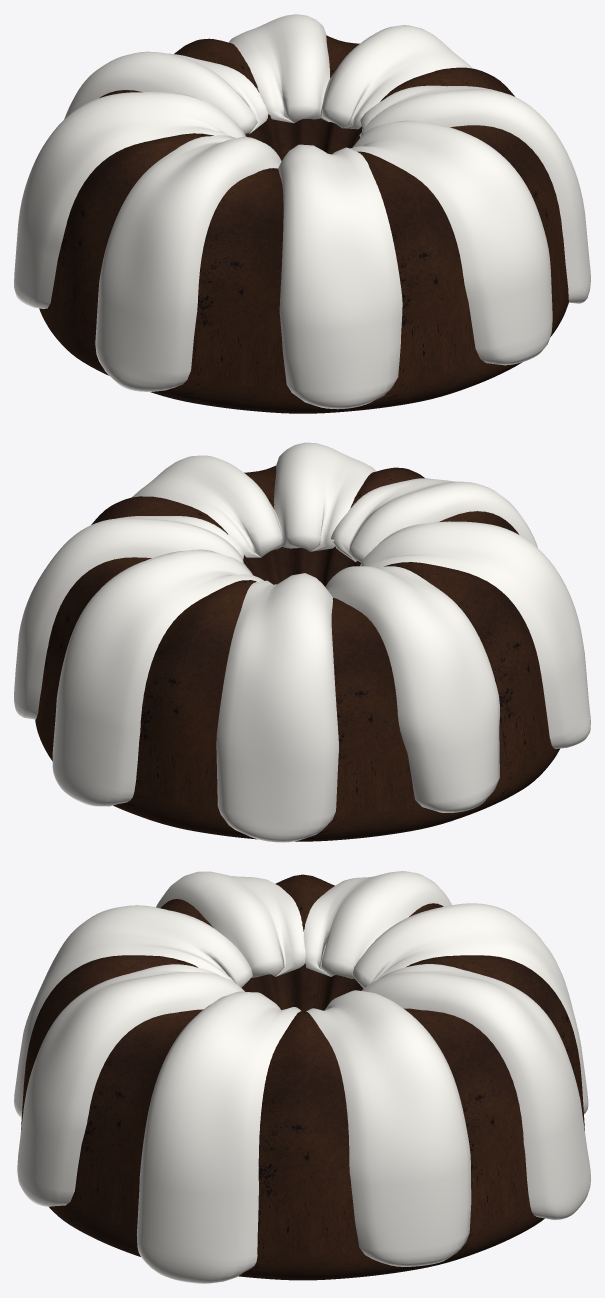
Rendered from bundt_chocolate_10.glb.
3 views of the same model, one above another, from view 1: azimuth 30°, elevation 25°; view 2: azimuth 150°, elevation 25°; view 3: azimuth 270°, elevation 25° (orthographic). The views are drawn at different scales.
Visible parts, largest first — view 1: cake.001, frosting.005, frosting.004, frosting.006, frosting.003, frosting.007, frosting.001, frosting, frosting.002; view 2: cake.001, frosting.002, frosting.003, frosting.001, frosting.004, frosting, frosting.005, frosting.006, frosting.007; view 3: cake.001, frosting.007, frosting, frosting.001, frosting.006, frosting.002, frosting.005, frosting.004, frosting.003.
Part boxes in pixels (<box>): cake.001: <box>39,35,568,413</box>; frosting.005: <box>278,144,402,409</box>; frosting.004: <box>95,135,281,391</box>; frosting.006: <box>350,120,552,365</box>; frosting.003: <box>14,91,246,308</box>; frosting.007: <box>359,85,590,303</box>; frosting.001: <box>228,14,330,123</box>; frosting: <box>320,25,472,129</box>; frosting.002: <box>64,51,268,134</box>; cake.001: <box>35,465,559,841</box>; frosting.002: <box>216,573,338,842</box>; frosting.003: <box>325,566,499,812</box>; frosting.001: <box>52,549,263,806</box>; frosting.004: <box>360,521,590,748</box>; frosting: <box>14,516,246,719</box>; frosting.005: <box>331,478,537,562</box>; frosting.006: <box>274,442,376,551</box>; frosting.007: <box>132,455,282,557</box>; cake.001: <box>21,874,584,1280</box>; frosting.007: <box>136,991,300,1283</box>; frosting: <box>306,990,471,1266</box>; frosting.001: <box>361,964,590,1219</box>; frosting.006: <box>17,964,244,1206</box>; frosting.002: <box>352,903,588,1113</box>; frosting.005: <box>14,905,252,1117</box>; frosting.004: <box>156,871,305,977</box>; frosting.003: <box>303,871,451,978</box>.
Bounding box in the file's own units: 0.2661 × 0.1163 × 0.2668.
2 materials, 1 textured.
